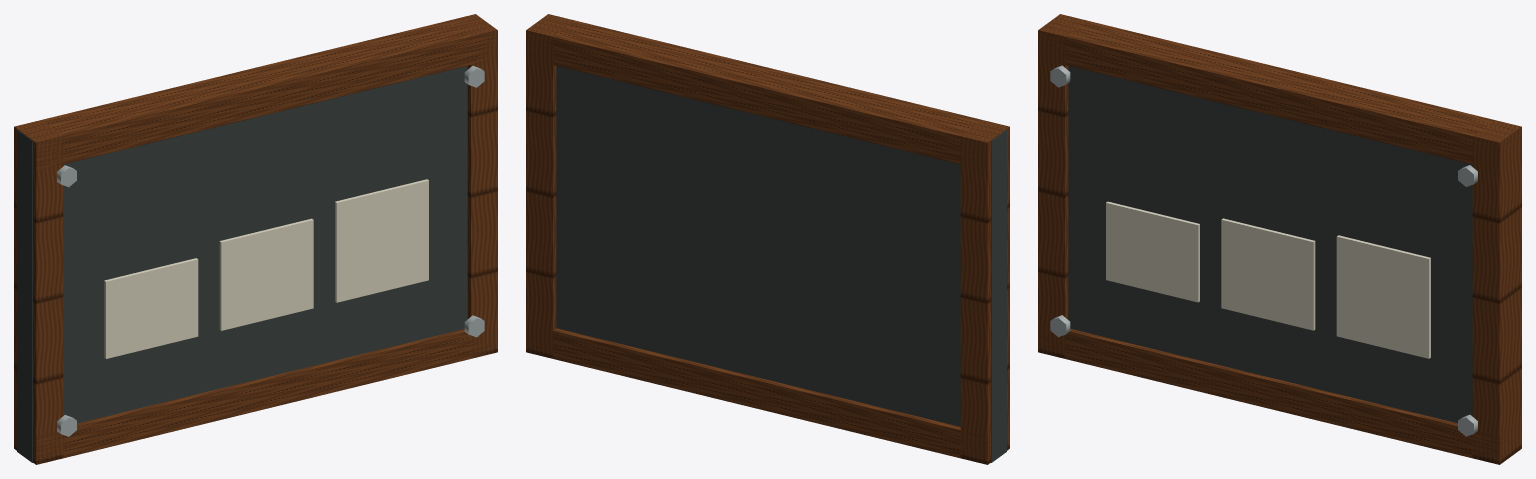
The model's file is bunker-shelter-construction-shelter-map-board-ffd8eaec__23389.glb.
3 renders of one model, left to right at view 1: azimuth 30°, elevation 25°; view 2: azimuth 150°, elevation 25°; view 3: azimuth 330°, elevation 25°, orthographic.
Visible parts, largest first — view 1: shelter-map-board; view 2: shelter-map-board; view 3: shelter-map-board.
Boxes of the visible parts, bbox=[...] form: shelter-map-board: bbox=[14, 14, 497, 464]; shelter-map-board: bbox=[526, 14, 1009, 464]; shelter-map-board: bbox=[1038, 14, 1521, 464].
Size of the model in its own units: 1.2 by 0.8012 by 0.128.
4 materials, 1 textured.
